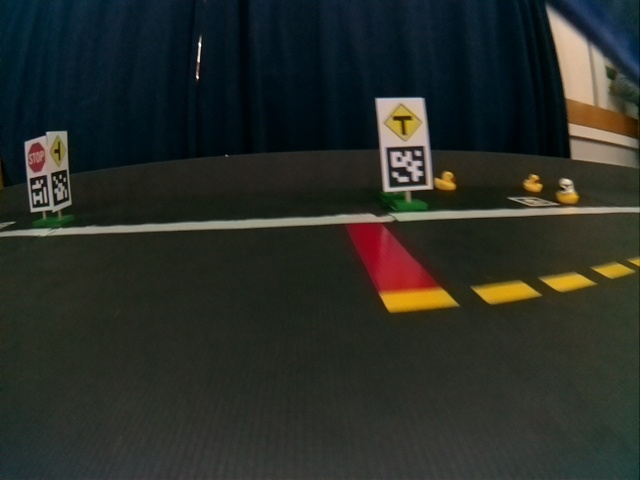Duckie: (556, 179, 577, 205), (435, 172, 457, 191), (524, 175, 542, 192)
Intersection sign: (384, 103, 423, 142), (50, 134, 67, 166)
QR code: (387, 146, 428, 186), (50, 169, 70, 206), (29, 175, 50, 208), (513, 195, 556, 207)
Stop sign: (27, 142, 46, 170)
